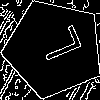L: (28, 23, 83, 67)
